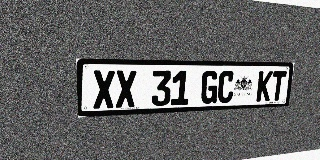1: (171, 71, 190, 105)
3: (151, 70, 171, 106)
C: (217, 71, 235, 103)
G: (200, 71, 219, 104)
K: (256, 71, 273, 102)
T: (270, 71, 287, 101)
X: (93, 70, 115, 109), (116, 70, 136, 108)
